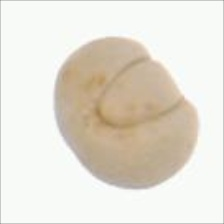L5: (93, 54, 187, 131), (55, 122, 94, 176)
L6: (51, 34, 201, 191)
